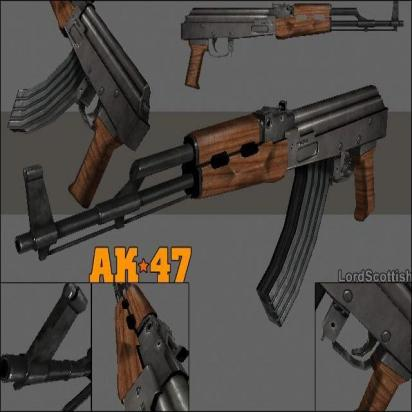Gun: (12, 79, 393, 327), (176, 4, 412, 94)
